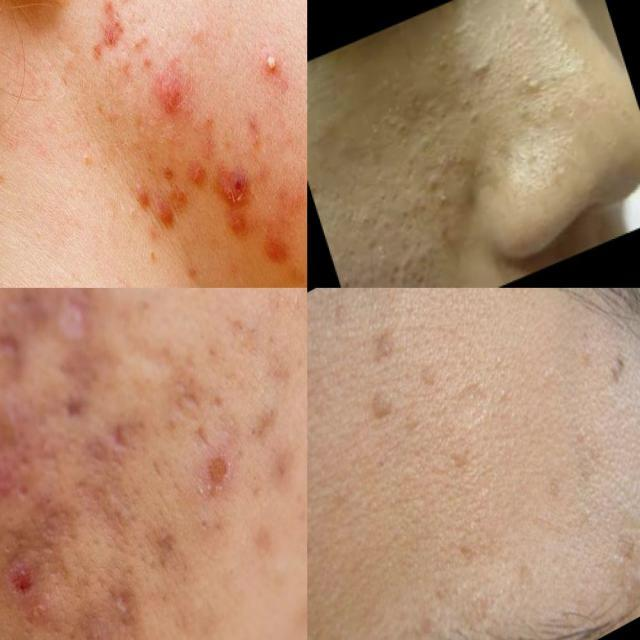Pimples: (390, 177, 470, 274), (29, 288, 110, 372), (146, 154, 214, 242), (423, 78, 492, 164), (74, 127, 124, 206), (246, 26, 296, 103), (147, 64, 195, 139), (370, 90, 420, 154), (0, 312, 34, 399), (361, 240, 421, 288), (0, 427, 29, 526), (215, 157, 254, 222), (120, 17, 158, 72), (506, 58, 546, 107), (332, 247, 368, 288)
